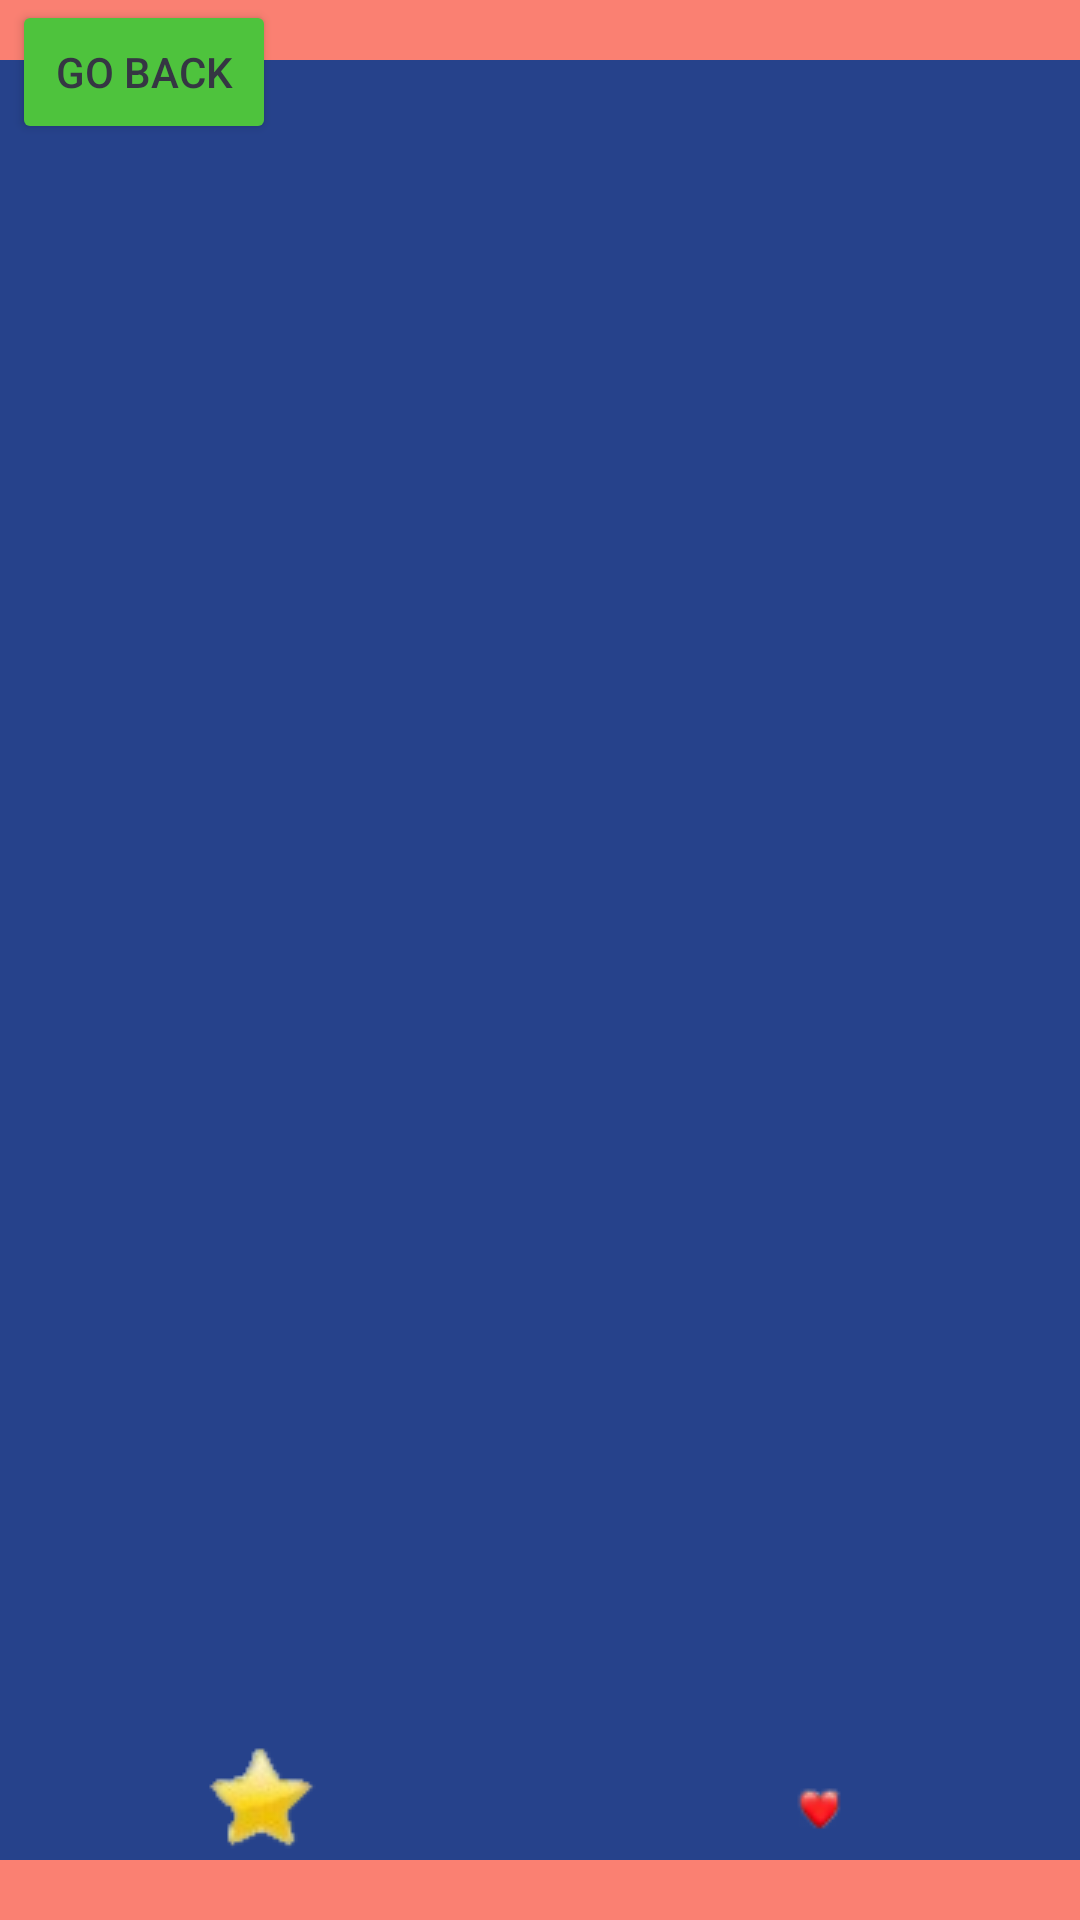

Where to tap for icons on this 1080w x 1920h app screen, as point (x, y):
yellowstar: point (261, 1797)
